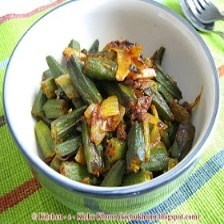sabzi: (25, 28, 205, 194)
